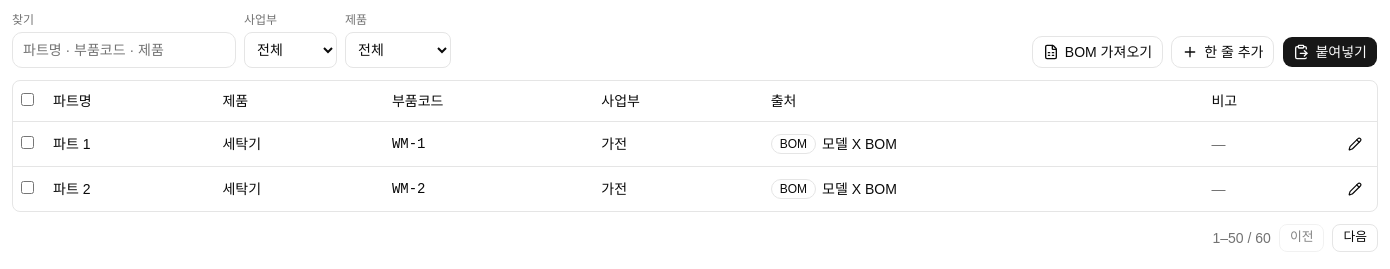
적용 부품 탭 › 줄을 그리고, 사업부를 고르면 서버에 다시 묻는다
The width and height of the screenshot is (1390, 269).
Expected: the text "WM-1" is shown, [384, 121, 593, 166]
Expected: the text "모델 X BOM" is shown 2 times, [771, 134, 897, 154]; [771, 179, 897, 199]
Select "전장 (20)" in the dropdown labelled "사업부" at {"x": 290, "y": 50}, box [244, 32, 337, 68]
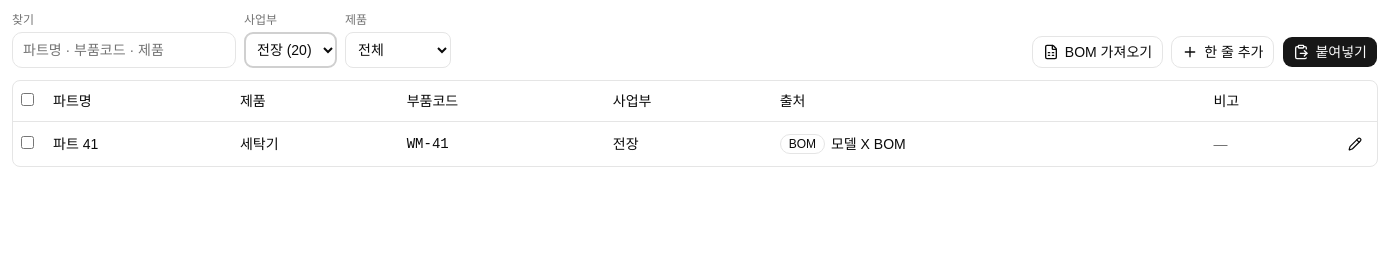
Expected: the text "WM-41" is shown, [399, 121, 605, 166]
